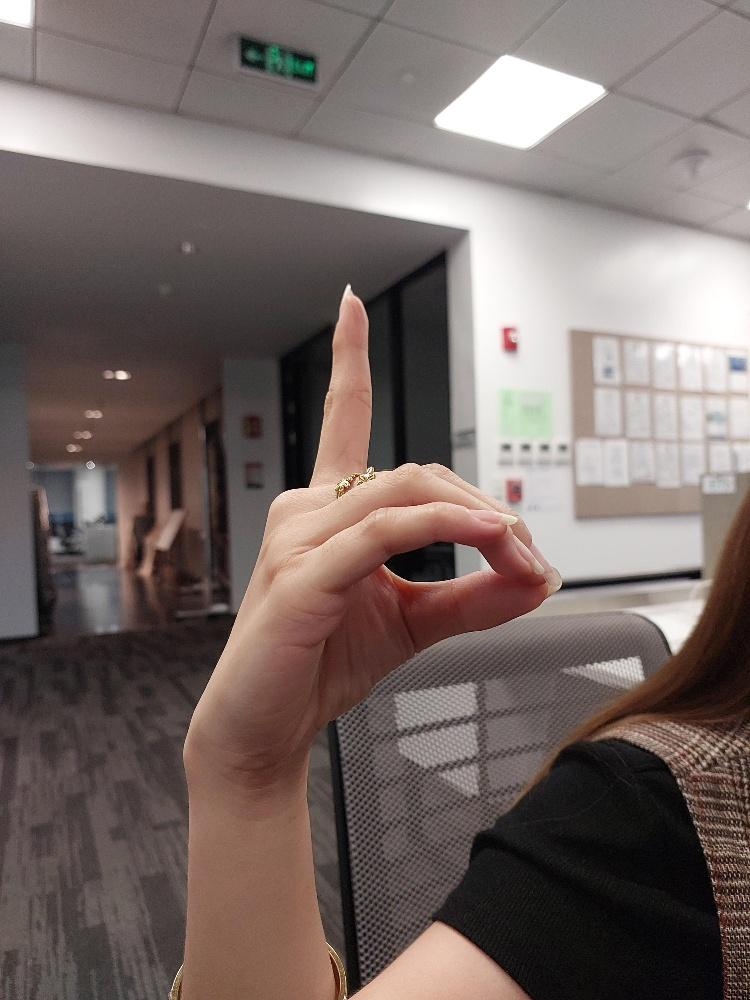d: (183, 281, 565, 765)
